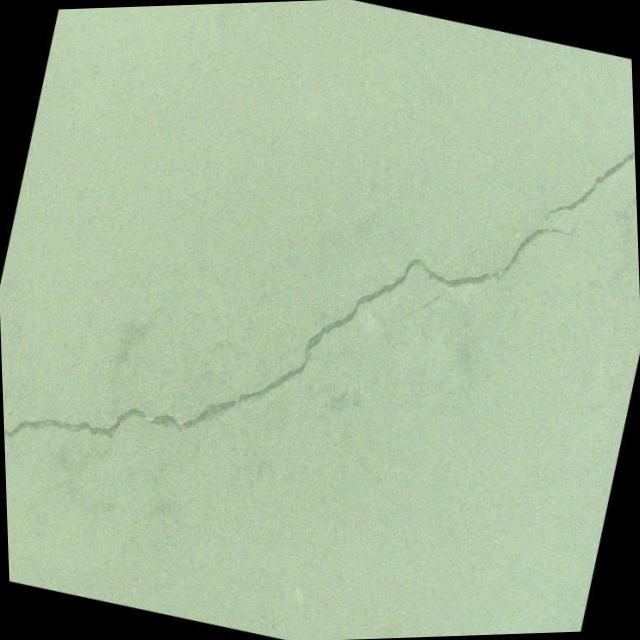crack: (0, 0, 640, 599), (2, 396, 32, 426)
